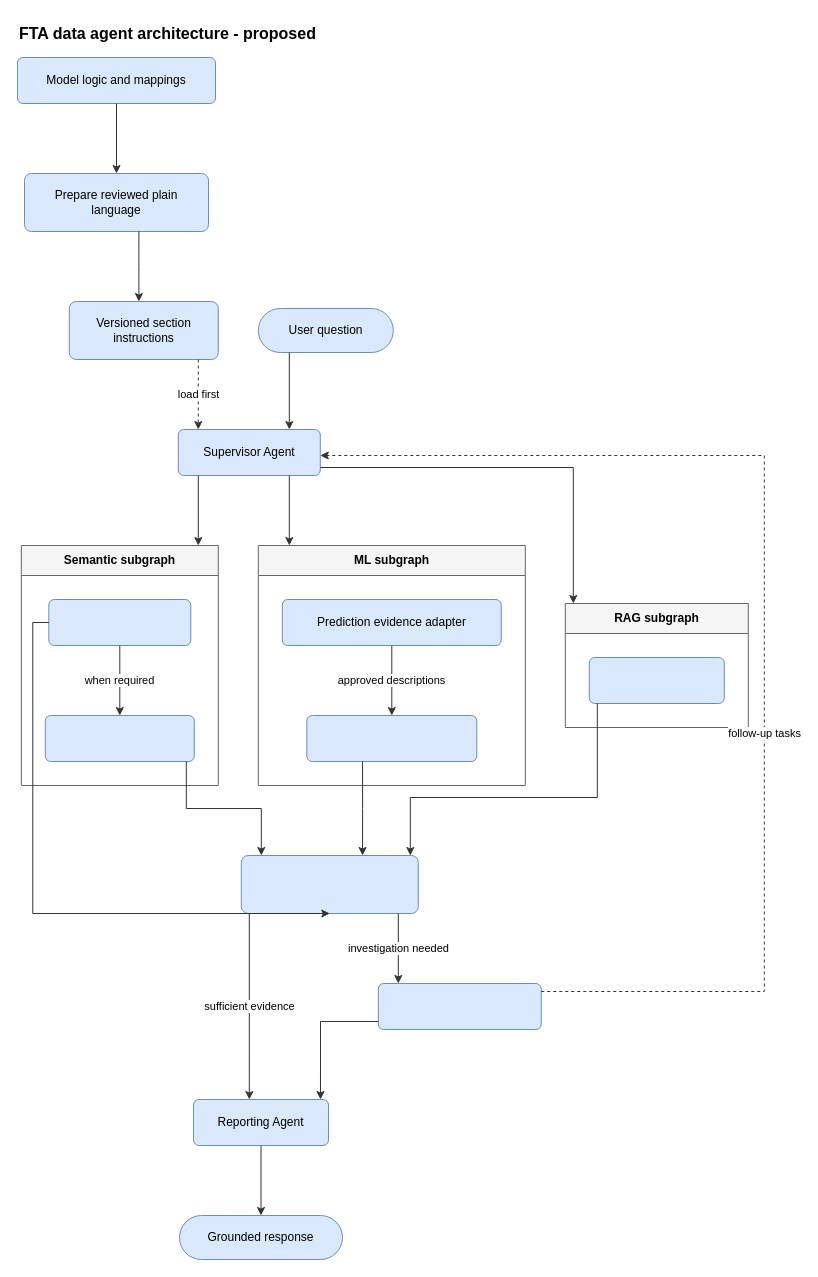
This 818x1277 diagram has some shape labels left out. Here are the shapes that lost their labels. From the top down, the centre of each, then its label:
the point at 119,622: Data Query Agent
the point at 656,680: Knowledge Agent
the point at 119,738: Calculation Agent
the point at 391,738: ML Explanation Agent
the point at 329,884: Result collection and validation
the point at 459,1006: Investigation Agent
